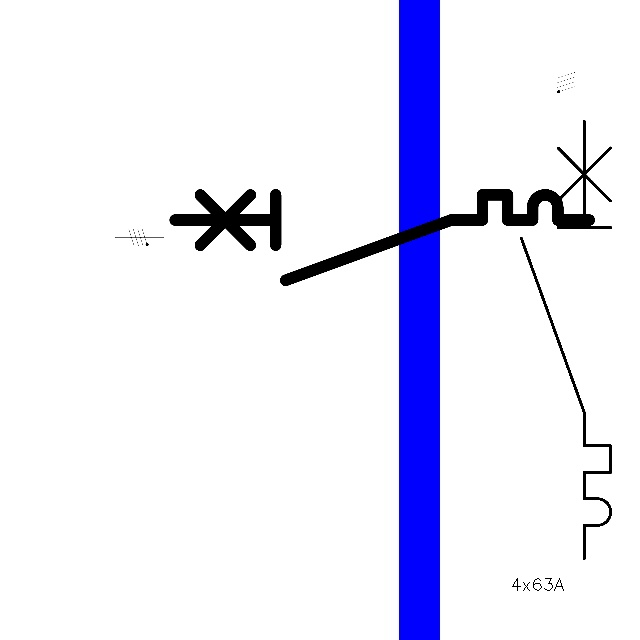interruptor_termomagnetico: (510, 110, 622, 570), (164, 184, 600, 290)
